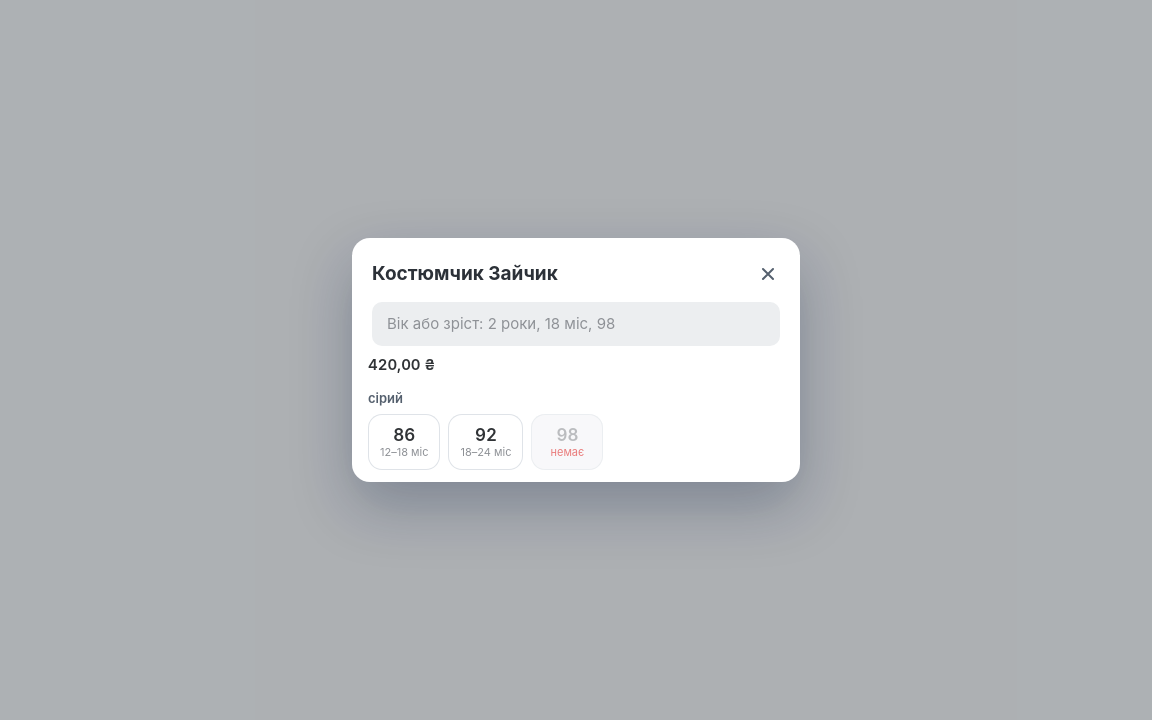
Test: VariantPicker — «Вік або зріст дитини» › says it when the size is not in stock at all
Type "3 роки" into the field named "Вік або зріст дитини".
click(576, 324); type("3 роки")  # box [372, 302, 780, 346]
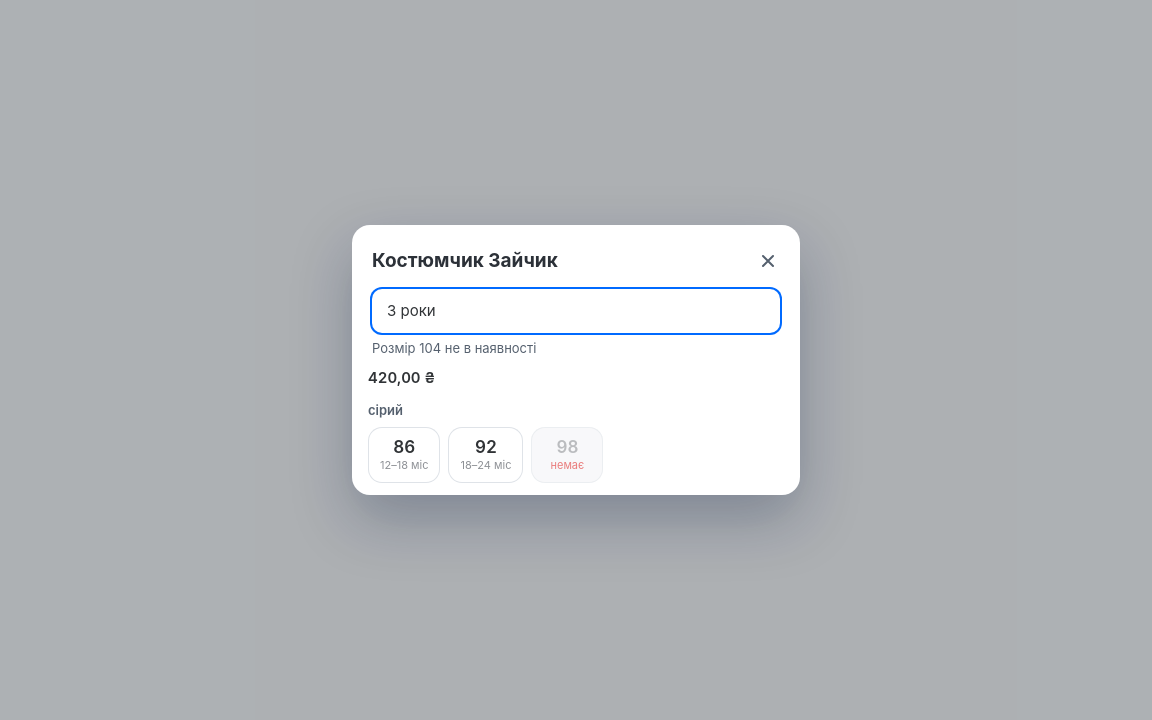
Expected: the message with test id "size-finder-status" reads "Розмір 104 не в наявності", [372, 340, 536, 356]
